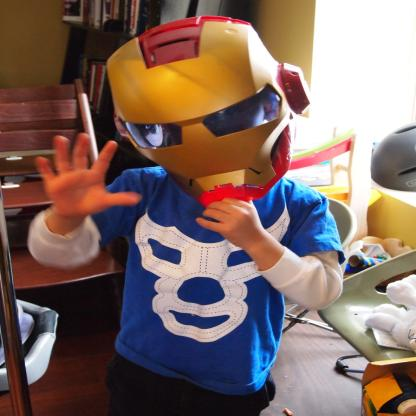Helmet: (87, 6, 306, 190)
